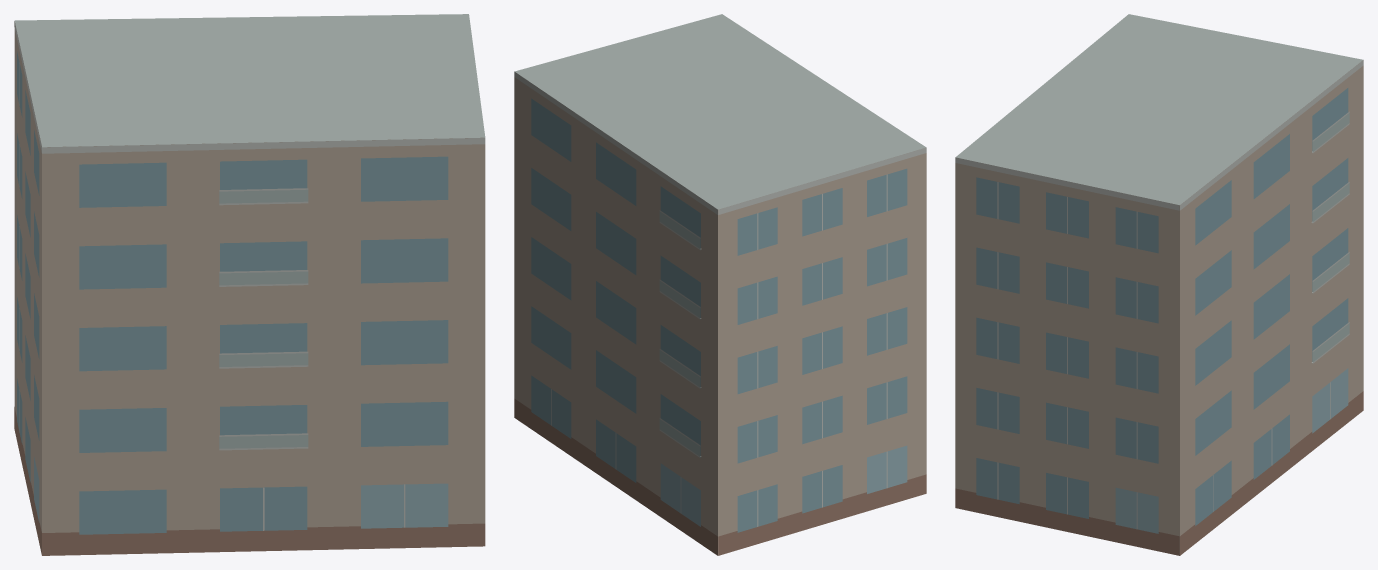
Rendered from survey-upis-32887411.glb.
3 views of the same model, side by side, from view 1: azimuth 30°, elevation 25°; view 2: azimuth 150°, elevation 25°; view 3: azimuth 270°, elevation 25° (orthographic). The views are drawn at different scales.
Parts seen in each view (by area): view 1: survey-upis-32887411.tmp; view 2: survey-upis-32887411.tmp; view 3: survey-upis-32887411.tmp.
Boxes of the visible parts, x1,y1,x2,y2 form: survey-upis-32887411.tmp: (14,14,485,555); survey-upis-32887411.tmp: (514,14,926,555); survey-upis-32887411.tmp: (955,14,1363,555).
Bounding box in the file's own units: 17.9 × 15.3 × 16.15.
